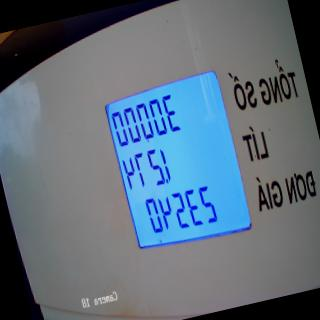screen: (97, 61, 256, 256)
